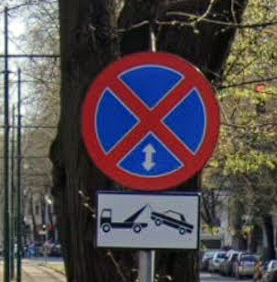oprirea_interzisa: (75, 48, 224, 199)
